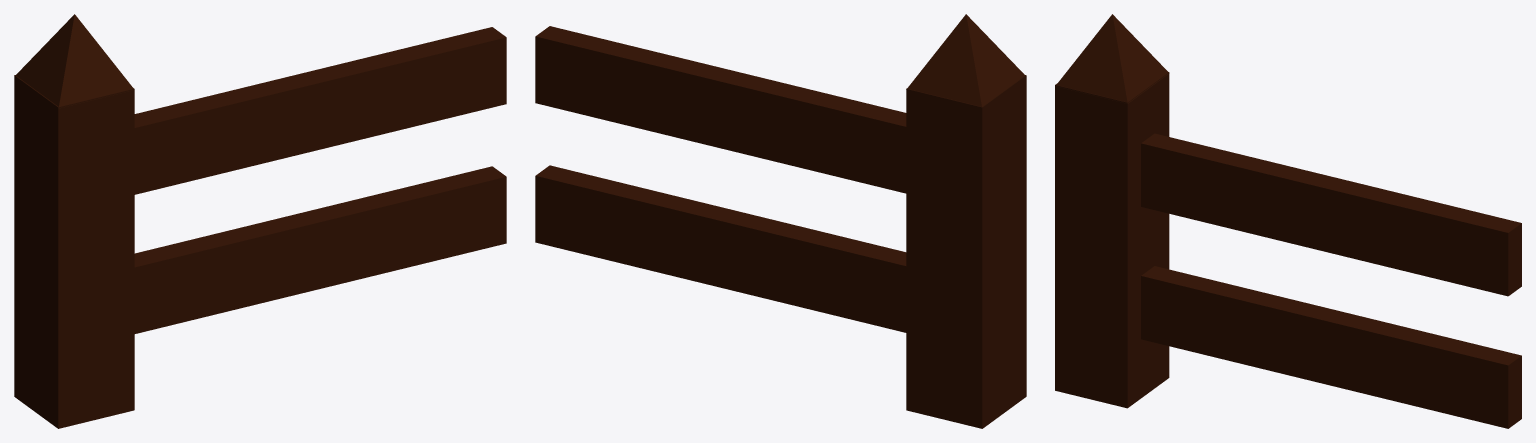
File: Plotek.FBX
The picture shows the model from 3 angles, left to right: view 1: azimuth 30°, elevation 25°; view 2: azimuth 150°, elevation 25°; view 3: azimuth 330°, elevation 25°; orthographic projection. The views are drawn at different scales.
Parts seen in each view (by area): view 1: Box054, Box058, Box057, Pyramid020; view 2: Box054, Box058, Box057, Pyramid020; view 3: Box054, Box057, Box058, Pyramid020.
Part boxes in pixels (left/top/right/bottom): Box054: left=14, top=75, right=134, bottom=428; Box058: left=134, top=27, right=506, bottom=194; Box057: left=134, top=166, right=506, bottom=333; Pyramid020: left=16, top=14, right=133, bottom=108; Box054: left=906, top=75, right=1026, bottom=428; Box058: left=535, top=26, right=906, bottom=193; Box057: left=535, top=165, right=906, bottom=332; Pyramid020: left=907, top=14, right=1024, bottom=106; Box054: left=1055, top=72, right=1169, bottom=408; Box057: left=1141, top=266, right=1521, bottom=428; Box058: left=1141, top=133, right=1521, bottom=296; Pyramid020: left=1056, top=14, right=1169, bottom=103.
Bounding box in the file's own units: 18.5 × 14.88 × 3.05.
